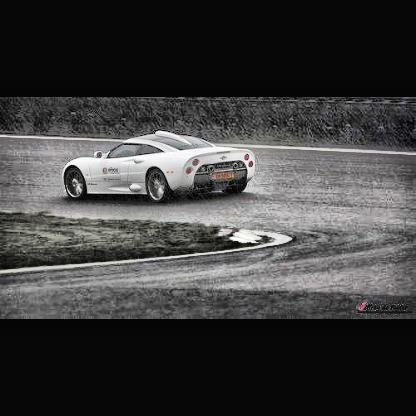Spyker C8 Coupe 2009: (60, 128, 260, 208)
